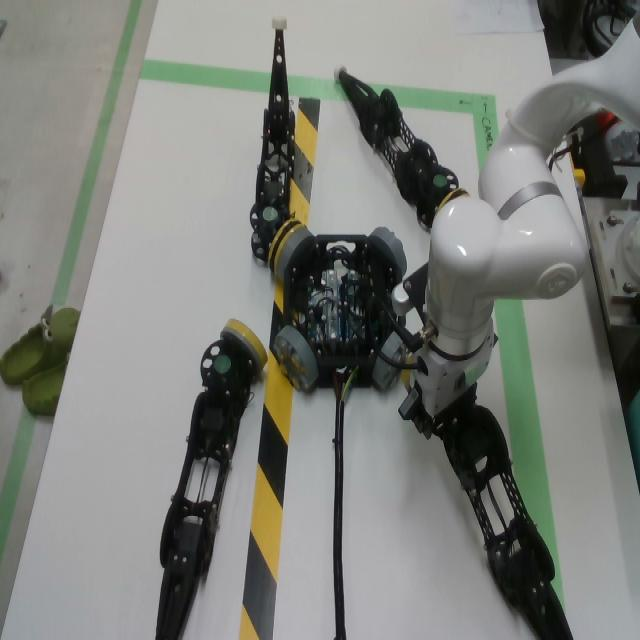body: (282, 235, 401, 388)
body_connector: (273, 325, 320, 392), (372, 332, 410, 391), (277, 228, 315, 279), (369, 227, 407, 277)
gripper: (399, 331, 499, 440)
leg: (155, 317, 268, 640), (434, 392, 574, 640), (333, 61, 470, 231), (249, 17, 306, 273)
leg_connector: (219, 319, 268, 371), (268, 219, 305, 272), (435, 188, 470, 213), (400, 369, 411, 392), (405, 356, 414, 365)
leg_marker: (214, 355, 231, 372), (263, 207, 277, 220), (433, 175, 447, 185)
